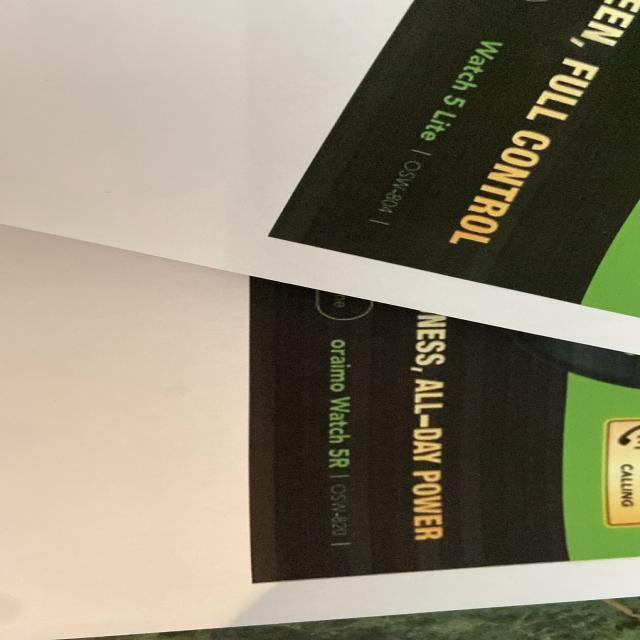Oraimo Watch 5R OSW-820: (320, 336, 361, 550)
Watch 5 Lite OSW-804: (361, 32, 520, 231)
